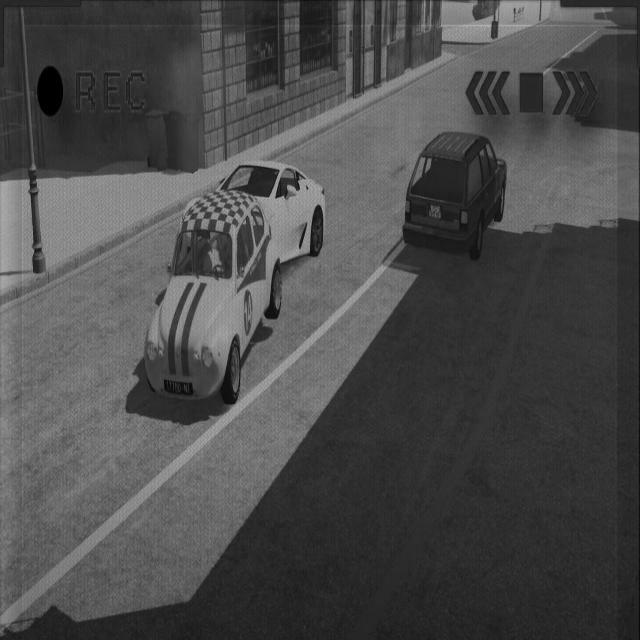accident: (141, 150, 325, 414)
vehicle: (402, 128, 508, 260)
